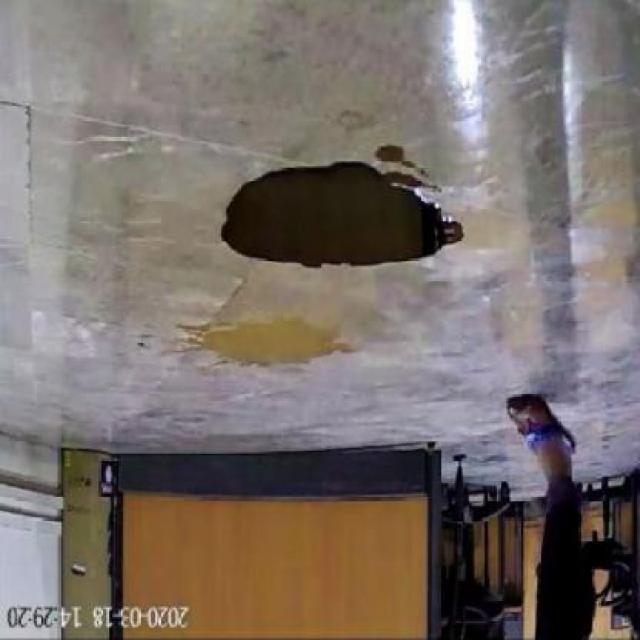spillage: (218, 155, 470, 270), (371, 136, 422, 172), (386, 169, 432, 188)
